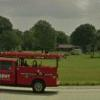Tree: (23, 12, 89, 53)
